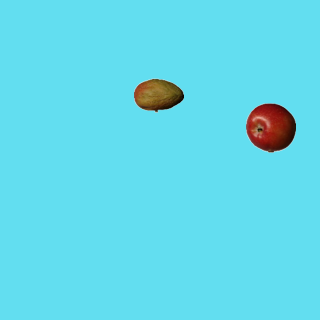Apple Braeburn: (245, 102, 295, 152)
Papaya: (133, 70, 183, 120)
